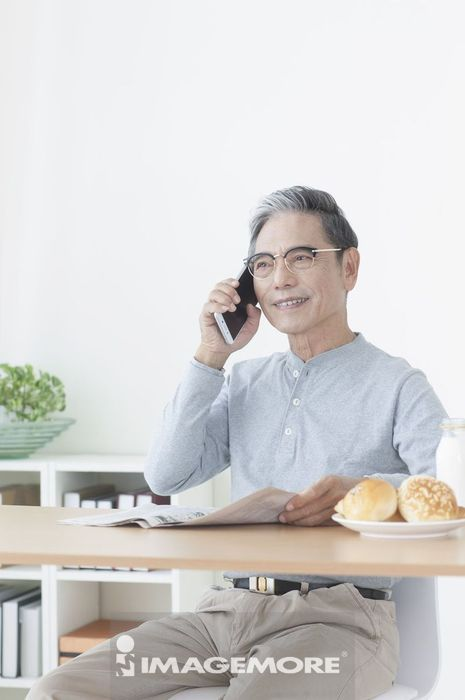phone: (214, 257, 258, 347)
talk: (200, 242, 327, 351)
